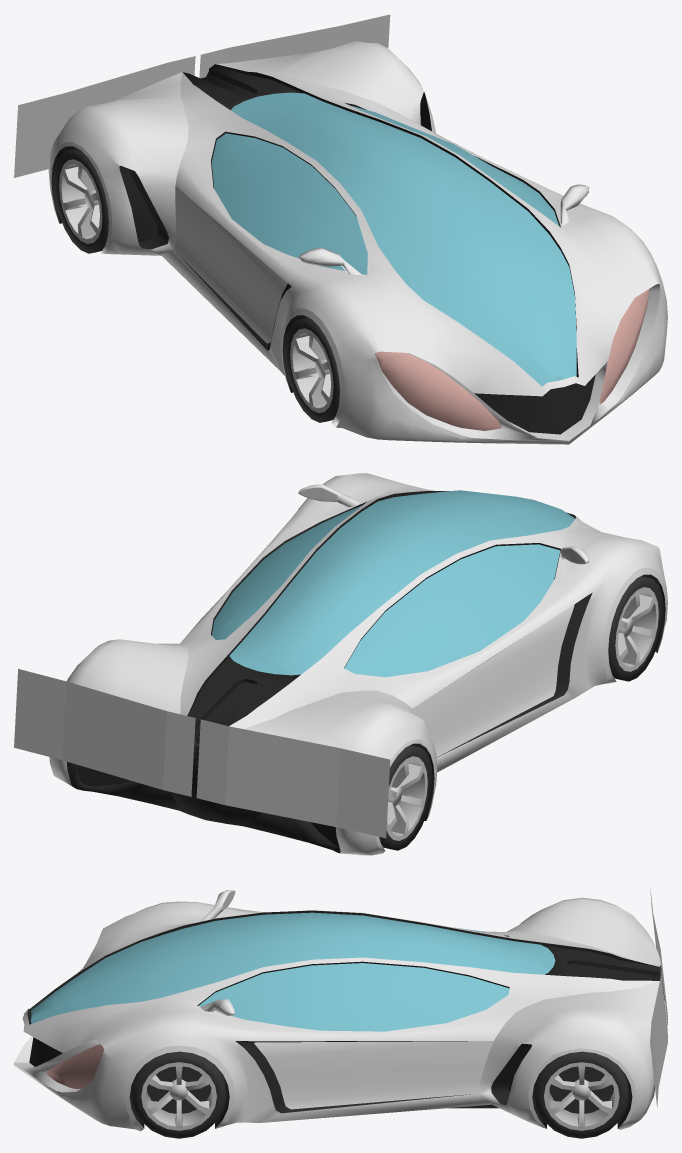
The model's file is Car High.fbx.
3 views of the same model, one above another, from view 1: azimuth 30°, elevation 25°; view 2: azimuth 150°, elevation 25°; view 3: azimuth 270°, elevation 25° (orthographic). The views are drawn at different scales.
Visible parts, largest first — view 1: body4, glow4, wheel_FR, wheel_BR; view 2: body4, glow4, wheel_FR, wheel_BR; view 3: body4, wheel_BL, wheel_FL, glow4.
Part boxes in pixels (box(x1,y1,x2,y2)): body4: box(48, 41, 667, 444); glow4: box(14, 14, 390, 177); wheel_FR: box(285, 317, 339, 422); wheel_BR: box(53, 148, 108, 253); body4: box(49, 473, 667, 855); glow4: box(14, 669, 390, 838); wheel_FR: box(608, 576, 663, 681); wheel_BR: box(379, 745, 432, 850); body4: box(14, 890, 664, 1131); wheel_BL: box(535, 1051, 628, 1138); wheel_FL: box(132, 1051, 225, 1138); glow4: box(650, 885, 667, 1107).
Size of the model in its own units: 2.59 by 1.11 by 4.52.
